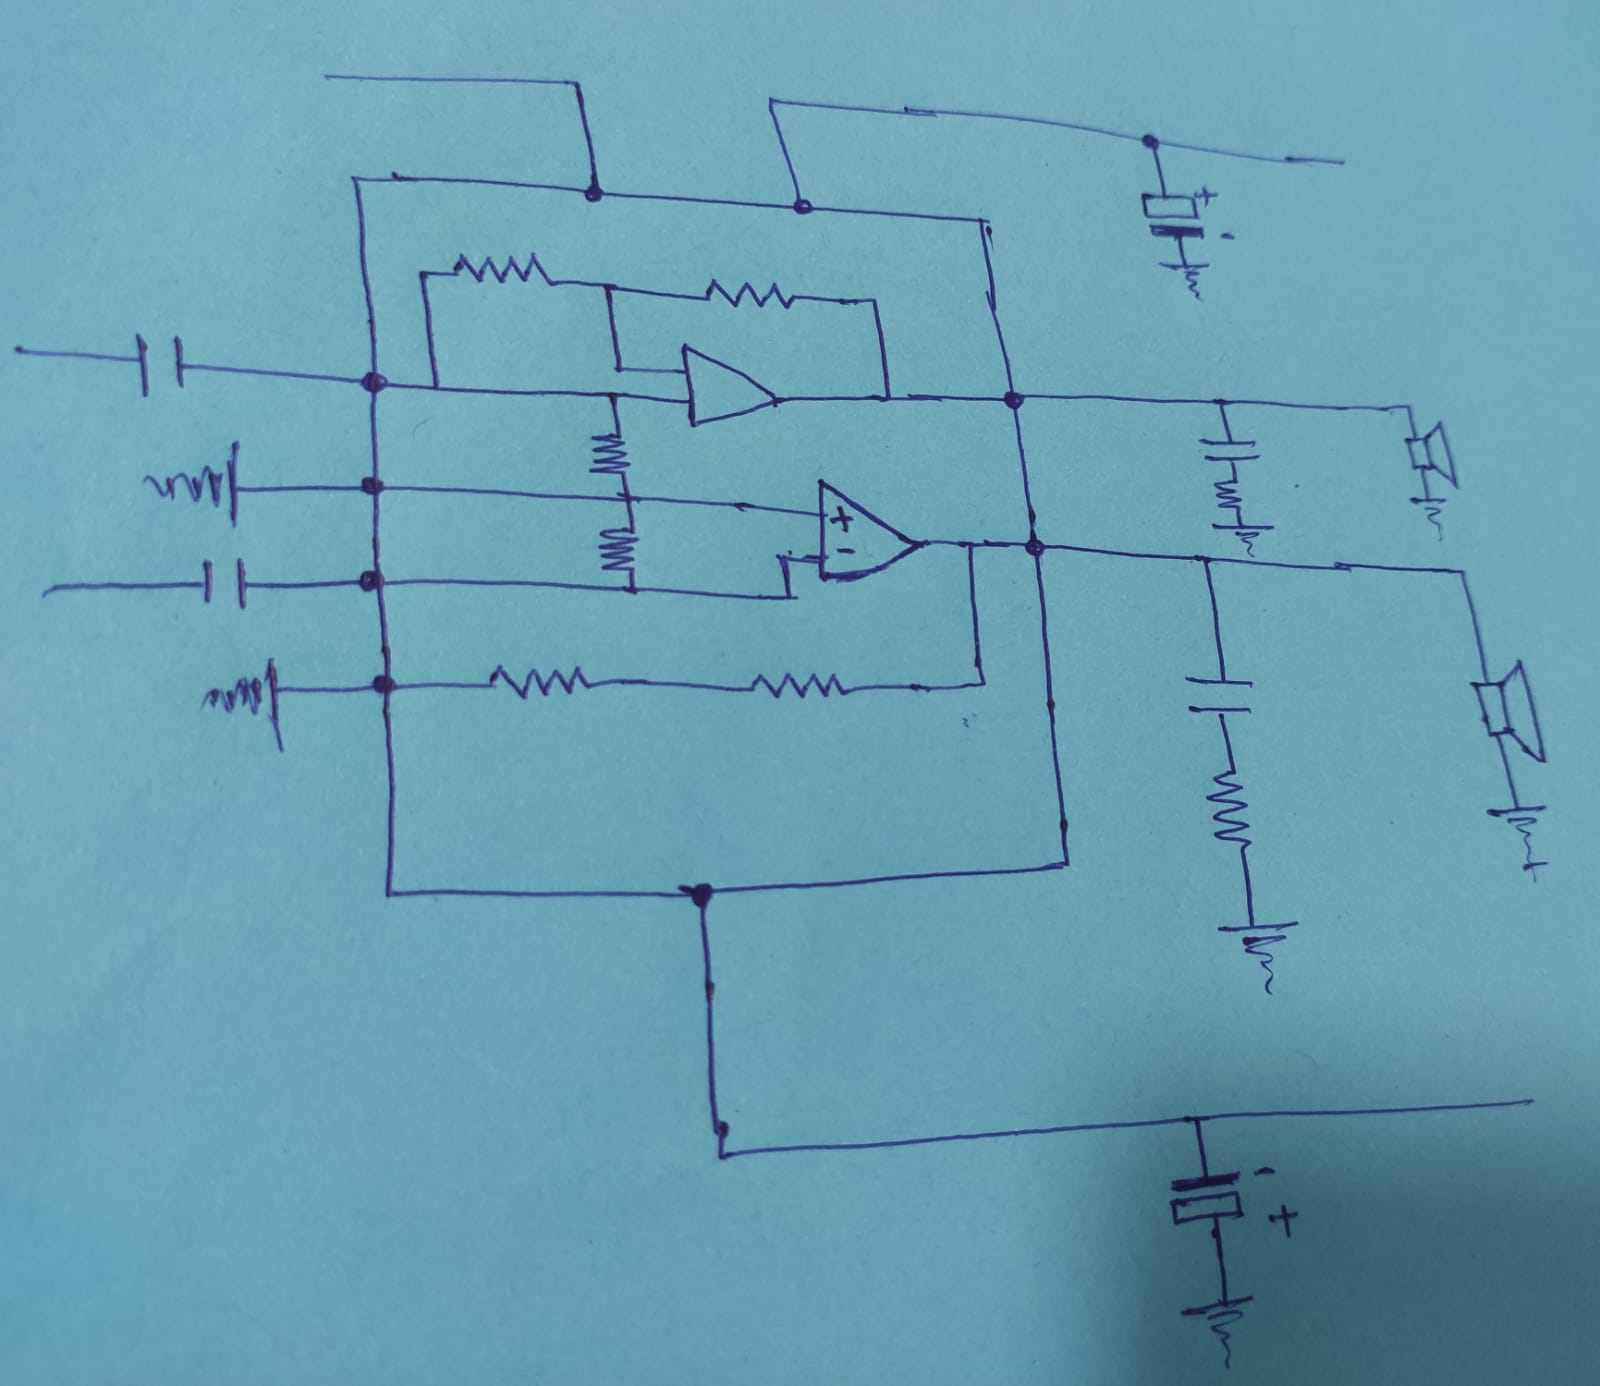capacitor.polarized: (1171, 1162, 1301, 1239), (1140, 186, 1237, 245)
capacitor.unpolarized: (131, 332, 196, 399), (190, 554, 259, 608), (1184, 671, 1256, 721), (1197, 433, 1265, 467)
gnd: (144, 439, 244, 520), (200, 652, 286, 743), (1181, 1288, 1259, 1371), (1220, 913, 1302, 989), (1490, 798, 1550, 879), (1205, 510, 1287, 558), (1152, 254, 1215, 305), (1405, 494, 1454, 545)
junction: (365, 661, 405, 705), (350, 363, 399, 399), (350, 560, 395, 598), (683, 871, 721, 910), (705, 1134, 743, 1172), (355, 469, 396, 505), (577, 173, 615, 207), (995, 385, 1033, 415), (371, 877, 407, 909), (781, 190, 819, 218), (1049, 846, 1079, 879), (1020, 533, 1050, 564), (963, 666, 995, 696), (1180, 1107, 1218, 1132), (341, 166, 371, 196), (422, 374, 452, 403), (410, 264, 439, 292), (967, 211, 997, 238), (1137, 126, 1165, 156), (595, 273, 623, 301), (562, 73, 590, 101), (1193, 545, 1224, 570), (620, 577, 646, 603), (876, 386, 901, 413), (605, 356, 634, 379), (761, 90, 785, 116), (1207, 392, 1235, 413), (959, 536, 984, 560), (601, 384, 624, 409), (863, 290, 886, 316), (1450, 560, 1473, 586), (1395, 397, 1418, 422), (616, 487, 639, 510), (778, 588, 803, 609), (771, 547, 796, 569)
operational_amplifier: (808, 473, 931, 592), (675, 341, 786, 433)
resistor: (444, 246, 559, 288), (1201, 766, 1253, 851), (484, 661, 595, 699), (744, 664, 848, 702), (702, 273, 799, 311), (1205, 467, 1259, 517), (593, 520, 641, 575), (584, 428, 634, 479)
speaker: (1472, 658, 1546, 768), (1403, 418, 1465, 488)
terminal: (30, 575, 72, 607), (1512, 1088, 1544, 1114), (4, 337, 35, 363), (1327, 152, 1355, 174), (316, 67, 343, 86)
